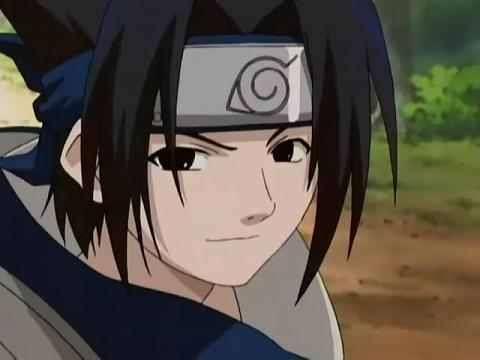sasuke: (34, 33, 326, 293)
